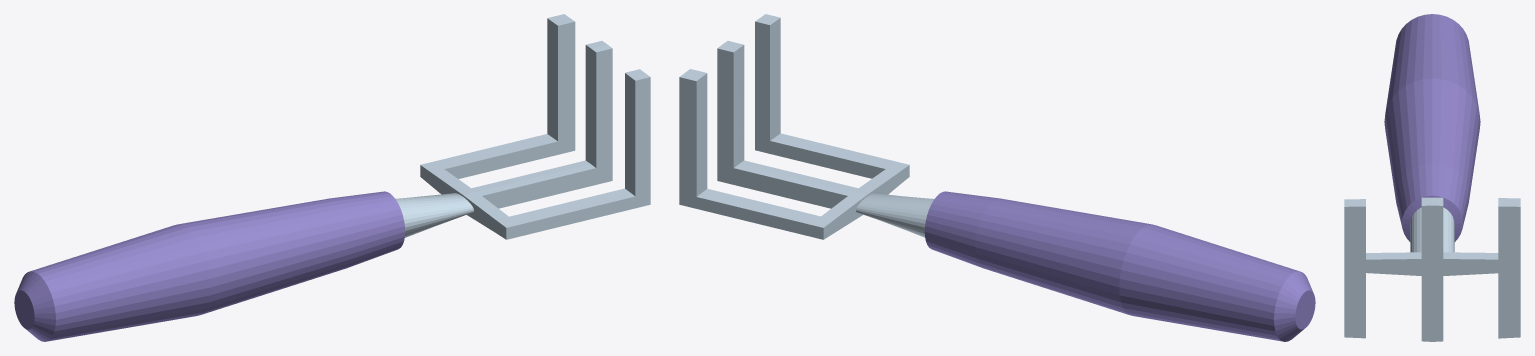
Rendered from Rake.fbx.
The picture shows the model from 3 angles, left to right: view 1: azimuth 30°, elevation 25°; view 2: azimuth 150°, elevation 25°; view 3: azimuth 270°, elevation 25°; orthographic projection. The views are drawn at different scales.
Visible parts, largest first — view 1: Rake; view 2: Rake; view 3: Rake.
Boxes of the visible parts, x1,y1,x2,y2 form: Rake: (14,14,650,341); Rake: (679,14,1315,341); Rake: (1344,14,1520,341).
Size of the model in its own units: 37.27 by 10.13 by 9.54.
